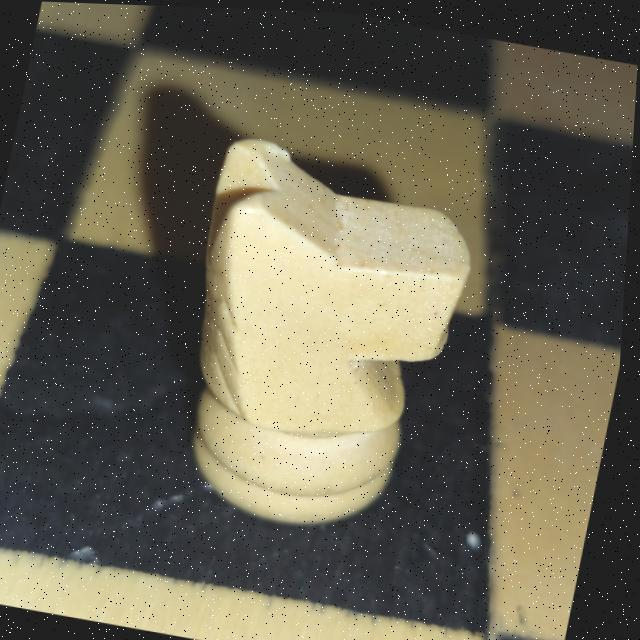white-knight: (192, 138, 470, 522)
